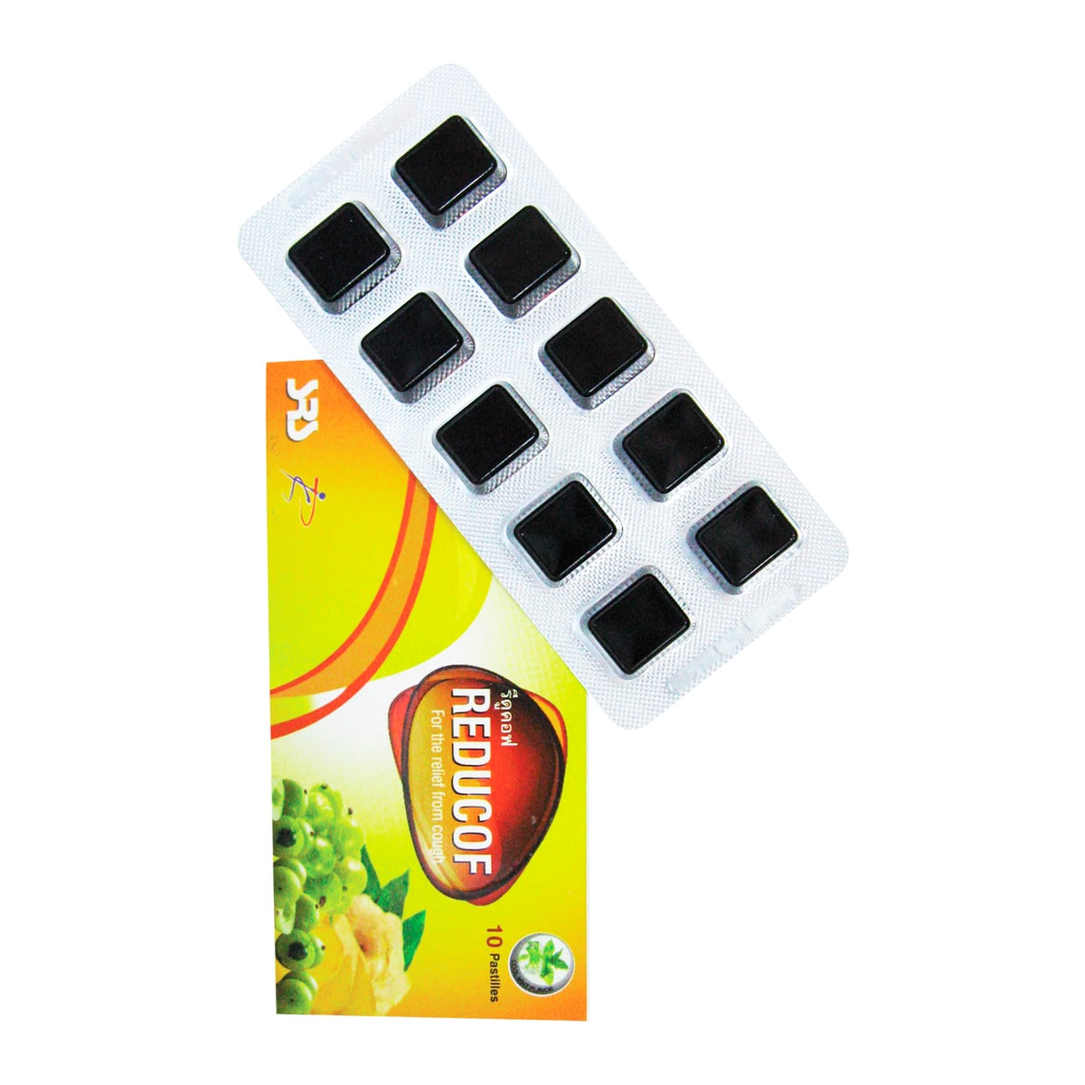Square: (391, 110, 507, 225), (689, 482, 803, 592), (617, 388, 728, 497), (433, 382, 545, 490), (359, 289, 468, 398), (584, 569, 695, 676), (511, 478, 620, 582), (290, 200, 393, 303), (546, 295, 647, 396), (473, 206, 570, 300)
